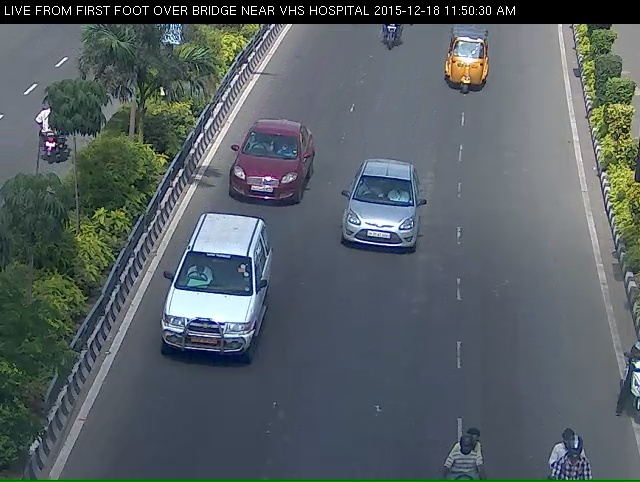Auto: (440, 29, 495, 105)
Car: (162, 233, 255, 403), (338, 175, 422, 280), (224, 131, 296, 220)
Person: (375, 23, 407, 62)
